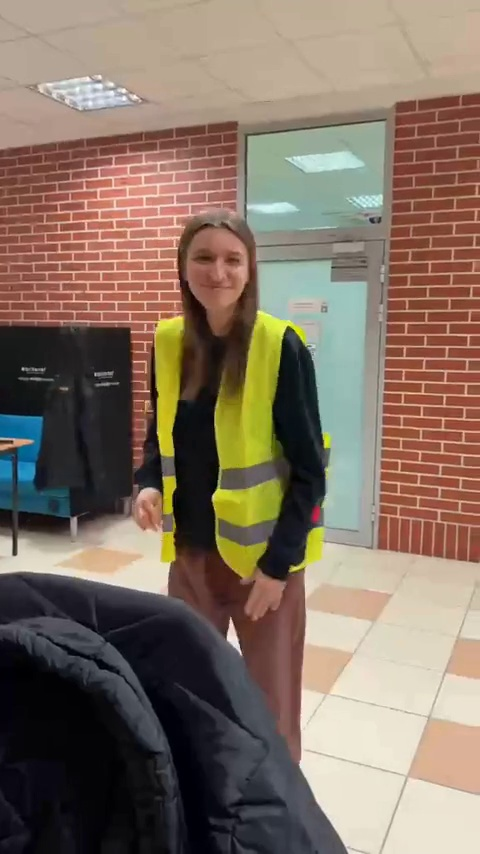vest: (145, 207, 322, 707)
